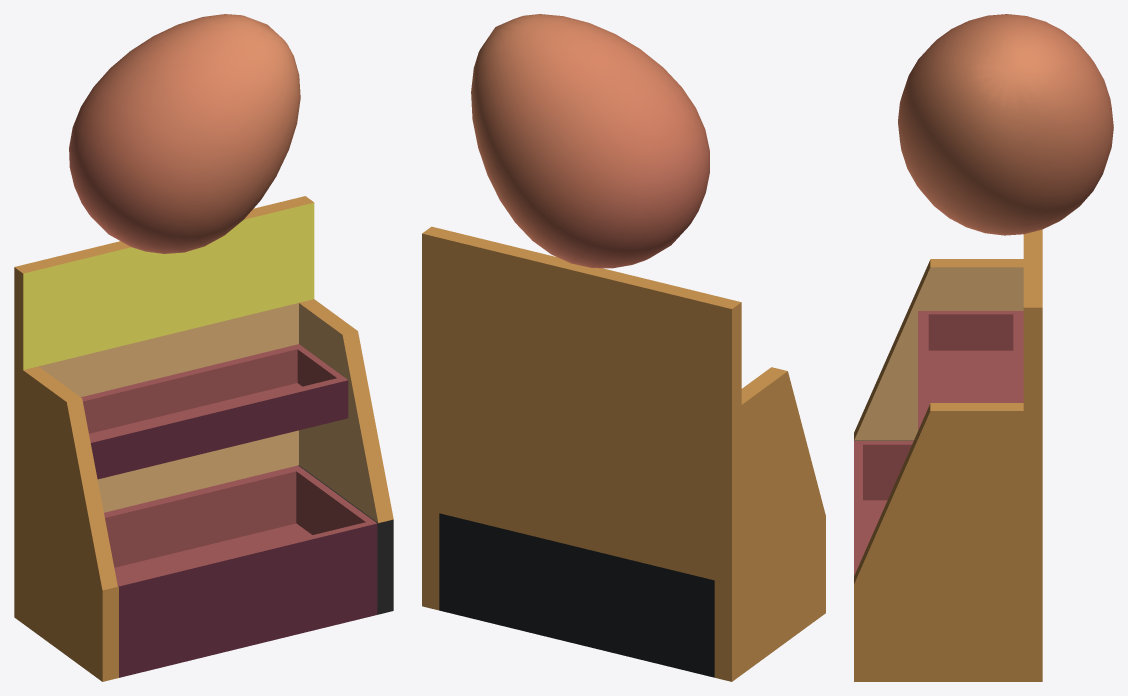
The model's file is Shelve_Egg.fbx.
The picture shows the model from 3 angles, left to right: view 1: azimuth 30°, elevation 25°; view 2: azimuth 150°, elevation 25°; view 3: azimuth 270°, elevation 25°; orthographic projection. The views are drawn at different scales.
Parts seen in each view (by area): view 1: Shelve_Egg; view 2: Shelve_Egg; view 3: Shelve_Egg.
Boxes of the visible parts, x1,y1,x2,y2 form: Shelve_Egg: [14, 14, 393, 681]; Shelve_Egg: [422, 14, 825, 681]; Shelve_Egg: [854, 14, 1113, 681].
Bounding box in the file's own units: 441 × 812 × 319.
